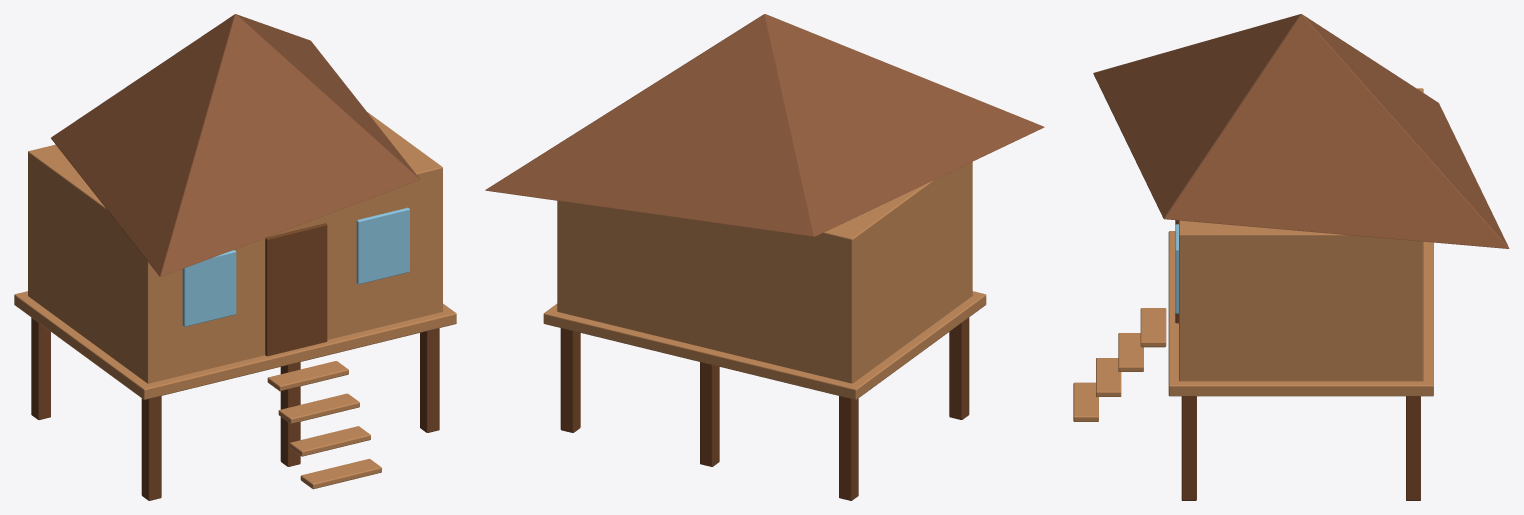
The model's file is rumah_kampung.glb.
3 views of the same model, side by side, from view 1: azimuth 30°, elevation 25°; view 2: azimuth 150°, elevation 25°; view 3: azimuth 270°, elevation 25° (orthographic).
Parts seen in each view (by area): view 1: rumah_kampung; view 2: rumah_kampung; view 3: rumah_kampung.
Part boxes in pixels (left/top/right/bottom): rumah_kampung: left=14, top=14, right=456, bottom=500; rumah_kampung: left=485, top=14, right=1044, bottom=500; rumah_kampung: left=1073, top=14, right=1509, bottom=500.
Bounding box in the file's own units: 4.08 × 4.49 × 4.28.
